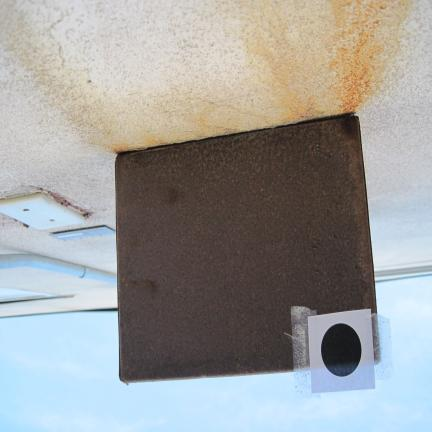karat: (106, 121, 365, 392)
